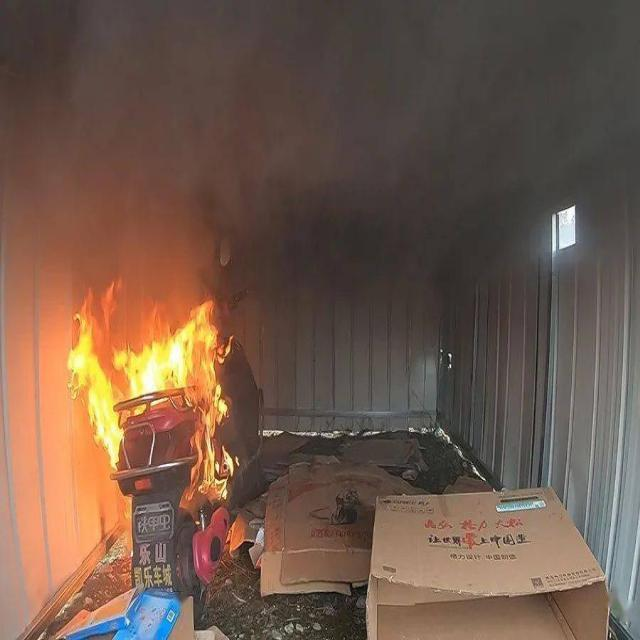Fire: (68, 324, 120, 464), (198, 310, 230, 496), (116, 324, 201, 394)
